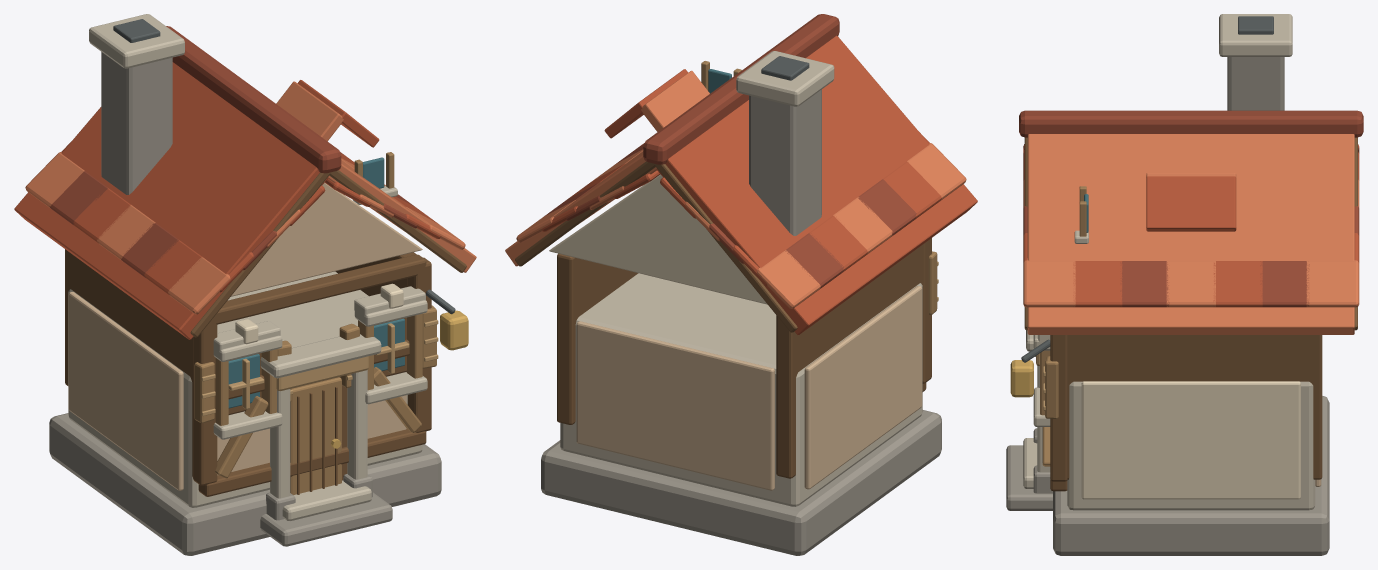
File: medieval_house.glb
3 views of the same model, side by side, from view 1: azimuth 30°, elevation 25°; view 2: azimuth 150°, elevation 25°; view 3: azimuth 270°, elevation 25° (orthographic). The views are drawn at different scales.
Parts seen in each view (by area): view 1: MedievalHouse_Geometry; view 2: MedievalHouse_Geometry; view 3: MedievalHouse_Geometry.
Part boxes in pixels (bbox=[...]): MedievalHouse_Geometry: bbox=[14, 14, 476, 555]; MedievalHouse_Geometry: bbox=[505, 14, 977, 555]; MedievalHouse_Geometry: bbox=[1006, 14, 1363, 555].
Bounding box in the file's own units: 1.89 × 2.69 × 1.99.
